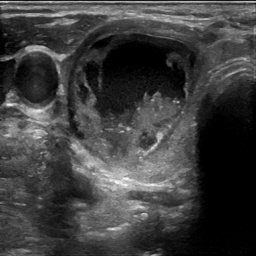mass: (68, 26, 193, 184)
